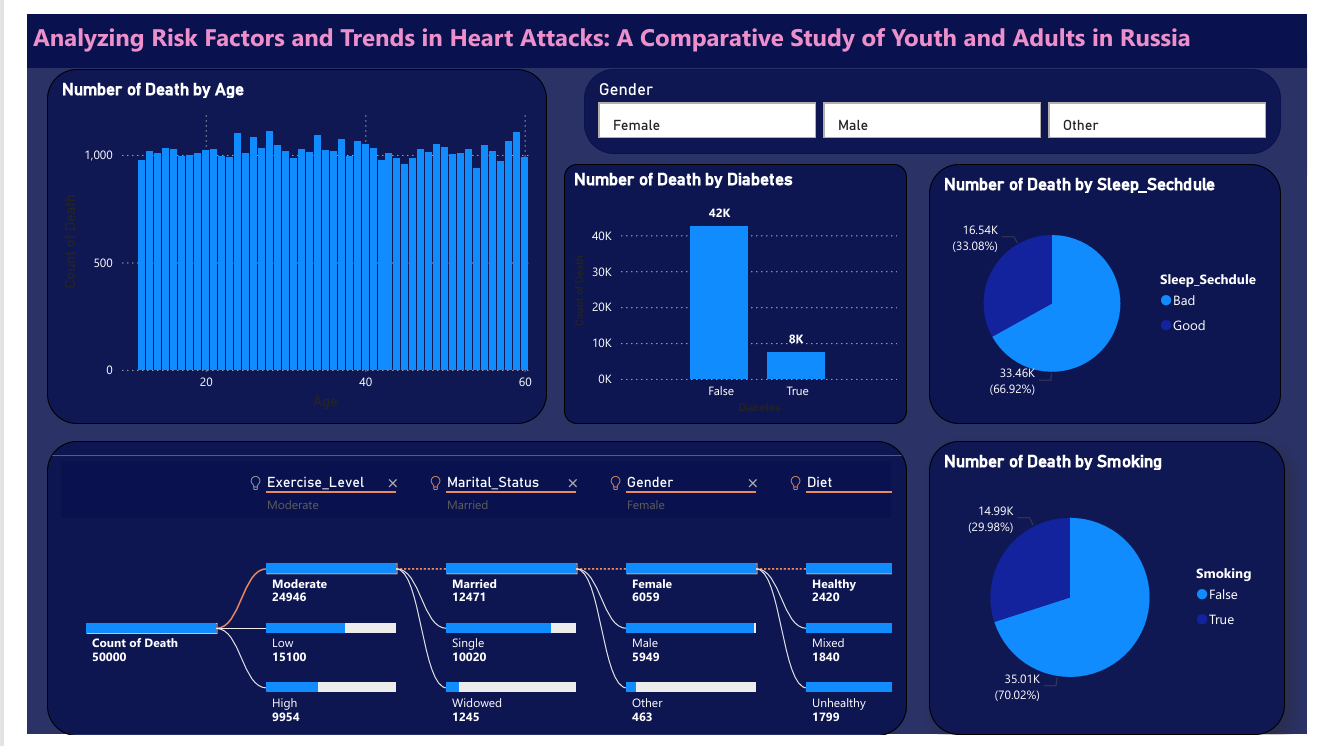

The page's visual inventory and layout, read from the dashboard file:
{"tool":"powerbi","page":{"name":"Page 1","canvas":[1280,720],"ordinal":0},"visuals":[{"type":"columnChart","title":"Number of Death by Age","fields":{"Y":["CountNonNull(heart_attack_russia_youth_vs_ad.ID)"],"Category":["heart_attack_russia_youth_vs_ad.Age"]},"box":[18.6,54.3,500,354.3],"z":0},{"type":"pieChart","title":"Number of Death by Sleep_Sechdule","fields":{"Category":["heart_attack_russia_youth_vs_ad.Sleep_Sechdule"],"Y":["CountNonNull(heart_attack_russia_youth_vs_ad.ID)"]},"box":[901.4,148.6,351.4,260],"z":1000},{"type":"pieChart","title":"Number of Death by Smoking","fields":{"Y":["CountNonNull(heart_attack_russia_youth_vs_ad.ID)"],"Category":["heart_attack_russia_youth_vs_ad.Smoking"]},"box":[901.4,425.7,355.7,294.3],"z":2000},{"type":"advancedSlicerVisual","fields":{"Values":["heart_attack_russia_youth_vs_ad.Gender"]},"box":[555.7,54.3,697.1,84.3],"z":3000},{"type":"decompositionTreeVisual","fields":{"Analyze":["CountNonNull(heart_attack_russia_youth_vs_ad.Death)"],"ExplainBy":["heart_attack_russia_youth_vs_ad.Exercise_Level","heart_attack_russia_youth_vs_ad.Marital_Status","heart_attack_russia_youth_vs_ad.Gender","heart_attack_russia_youth_vs_ad.Diet"]},"box":[18.6,425.7,860,295.7],"z":4000},{"type":"columnChart","title":"Number of Death by Diabetes","fields":{"Category":["heart_attack_russia_youth_vs_ad.Diabetes"],"Y":["CountNonNull(heart_attack_russia_youth_vs_ad.Death)"]},"box":[535.7,148.6,342.9,260],"z":5000},{"type":"textbox","box":[0,0,1280,54.3],"z":6000}]}

Visuals, with their boxes in screenshot pixels (x1, y1, x2, y2), scaled from the page's 1280x720 canvas onto the 1322x746 screenshot:
"Number of Death by Age" columnChart: locate(19, 56, 536, 423)
"Number of Death by Sleep_Sechdule" pieChart: locate(931, 154, 1294, 423)
"Number of Death by Smoking" pieChart: locate(931, 441, 1298, 745)
advancedSlicerVisual - heart_attack_russia_youth_vs_ad.Gender: locate(574, 56, 1294, 144)
decompositionTreeVisual - CountNonNull(heart_attack_russia_youth_vs_ad.Death) x heart_attack_russia_youth_vs_ad.Exercise_Level: locate(19, 441, 907, 745)
"Number of Death by Diabetes" columnChart: locate(553, 154, 907, 423)
textbox: locate(0, 0, 1321, 56)
